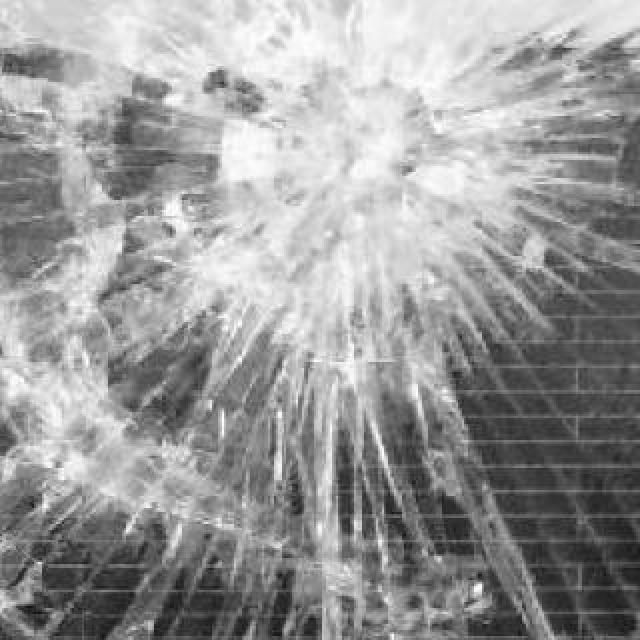Physical-damage: (2, 3, 639, 640)
